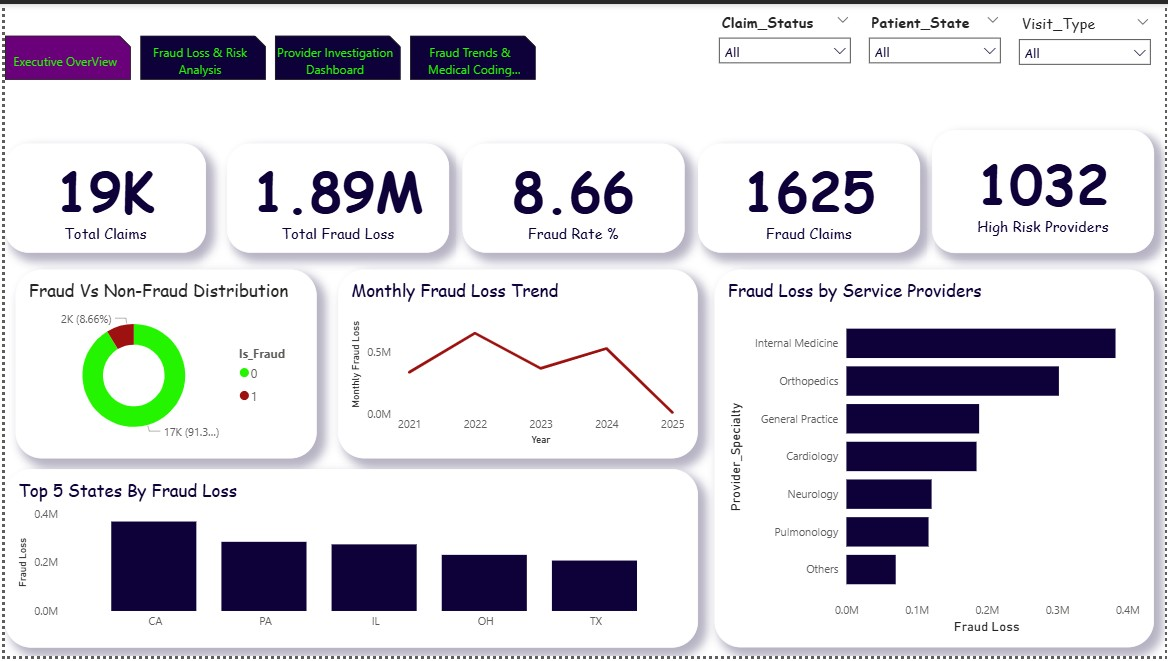

The dashboard page shown, as its layout file describes it:
{"tool":"powerbi","page":{"name":"Executive OverView","canvas":[1280,720],"ordinal":0},"visuals":[{"type":"card","fields":{"Values":["Health_Care_Fraud_Detection.Total Claims"]},"box":[0,154.1,222,120.9],"z":0},{"type":"card","fields":{"Values":["Health_Care_Fraud_Detection.Total Fraud Loss"]},"box":[245.2,154.1,245.2,120.9],"z":1},{"type":"card","fields":{"Values":["Health_Care_Fraud_Detection.Fraud Rate %"]},"box":[505.2,154.1,245.2,120.9],"z":2},{"type":"card","fields":{"Values":["Health_Care_Fraud_Detection.Fraud Claims"]},"box":[765.3,154.1,245.2,120.9],"z":3},{"type":"card","fields":{"Values":["Health_Care_Fraud_Detection.High Risk Providers"]},"box":[1023.7,139.1,245.2,135.8],"z":4},{"type":"donutChart","title":"Fraud Vs Non-Fraud Distribution ","fields":{"Category":["Health_Care_Fraud_Detection.Is_Fraud"],"Y":["Health_Care_Fraud_Detection.Total Claims"]},"box":[11.6,293.2,333,208.7],"z":5},{"type":"lineChart","title":"Monthly Fraud Loss Trend ","fields":{"Category":["Health_Care_Fraud_Detection.Claim_Submission_Date.Variation.Date Hierarchy.Year","Health_Care_Fraud_Detection.Claim_Submission_Date.Variation.Date Hierarchy.Quarter","Health_Care_Fraud_Detection.Claim_Submission_Date.Variation.Date Hierarchy.Month"],"Y":["Health_Care_Fraud_Detection.Monthly Fraud Loss"]},"box":[367.7,293.2,397.6,208.7],"z":6},{"type":"clusteredColumnChart","title":"Top 5 States By Fraud Loss","fields":{"Category":["Health_Care_Fraud_Detection.Patient_State"],"Y":["Health_Care_Fraud_Detection.Fraud Loss"]},"box":[0,513.5,765.3,197.1],"z":7},{"type":"clusteredBarChart","title":"Fraud Loss by Service Providers","fields":{"Y":["Health_Care_Fraud_Detection.Fraud Loss"],"Category":["Health_Care_Fraud_Detection.Provider_Specialty"]},"box":[783.5,293.2,485.3,417.4],"z":8},{"type":"pageNavigator","box":[0,34.8,588.1,49.7],"z":9},{"type":"slicer","fields":{"Values":["Health_Care_Fraud_Detection.Claim_Status"]},"box":[778.5,3.3,165.6,67.9],"z":10,"group":"g1"},{"type":"slicer","fields":{"Values":["Health_Care_Fraud_Detection.Patient_State"]},"box":[944.1,3.3,165.6,67.9],"z":11,"group":"g1"},{"type":"slicer","fields":{"Values":["Health_Care_Fraud_Detection.Visit_Type"]},"box":[1109.8,5,165.6,67.9],"z":12,"group":"g1"},{"type":"group","id":"g1","title":"Group 1","box":[778.5,3.3,496.9,69.6],"z":13}]}

Visuals, with their boxes in screenshot pixels (x1, y1, x2, y2), scaled from the page's 1280x720 canvas onto the 1168x661 screenshot:
card - Health_Care_Fraud_Detection.Total Claims: region(0, 141, 203, 252)
card - Health_Care_Fraud_Detection.Total Fraud Loss: region(224, 141, 447, 252)
card - Health_Care_Fraud_Detection.Fraud Rate %: region(461, 141, 685, 252)
card - Health_Care_Fraud_Detection.Fraud Claims: region(698, 141, 922, 252)
card - Health_Care_Fraud_Detection.High Risk Providers: region(934, 128, 1158, 252)
"Fraud Vs Non-Fraud Distribution " donutChart: region(11, 269, 314, 461)
"Monthly Fraud Loss Trend " lineChart: region(336, 269, 698, 461)
"Top 5 States By Fraud Loss" clusteredColumnChart: region(0, 471, 698, 652)
"Fraud Loss by Service Providers" clusteredBarChart: region(715, 269, 1158, 652)
pageNavigator: region(0, 32, 537, 78)
slicer - Health_Care_Fraud_Detection.Claim_Status: region(710, 3, 861, 65)
slicer - Health_Care_Fraud_Detection.Patient_State: region(861, 3, 1013, 65)
slicer - Health_Care_Fraud_Detection.Visit_Type: region(1013, 5, 1164, 67)
"Group 1" group: region(710, 3, 1164, 67)
